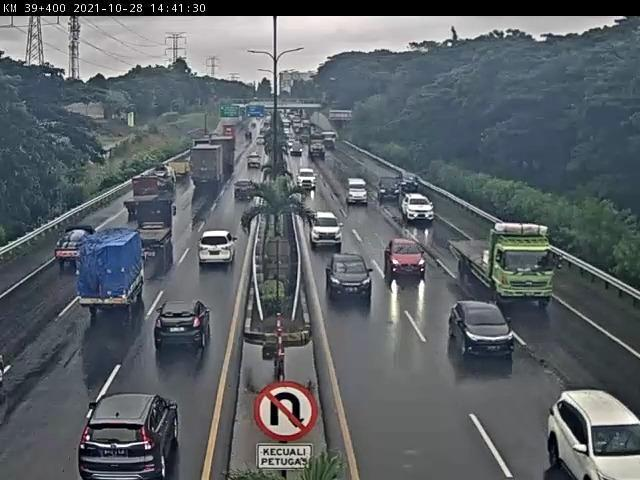car: (78, 390, 180, 480), (545, 392, 640, 480), (451, 300, 516, 356), (155, 299, 212, 351), (326, 254, 373, 302), (55, 226, 99, 269), (385, 241, 426, 282), (198, 232, 237, 267), (311, 212, 344, 250), (402, 194, 436, 222), (347, 179, 368, 204), (376, 176, 399, 198), (234, 179, 257, 201), (297, 169, 318, 191)
truck: (449, 219, 557, 305), (77, 228, 146, 312), (130, 200, 178, 263), (124, 177, 160, 214), (150, 165, 177, 195)
